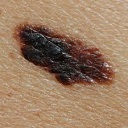Melanoma: (14, 21, 117, 88)
